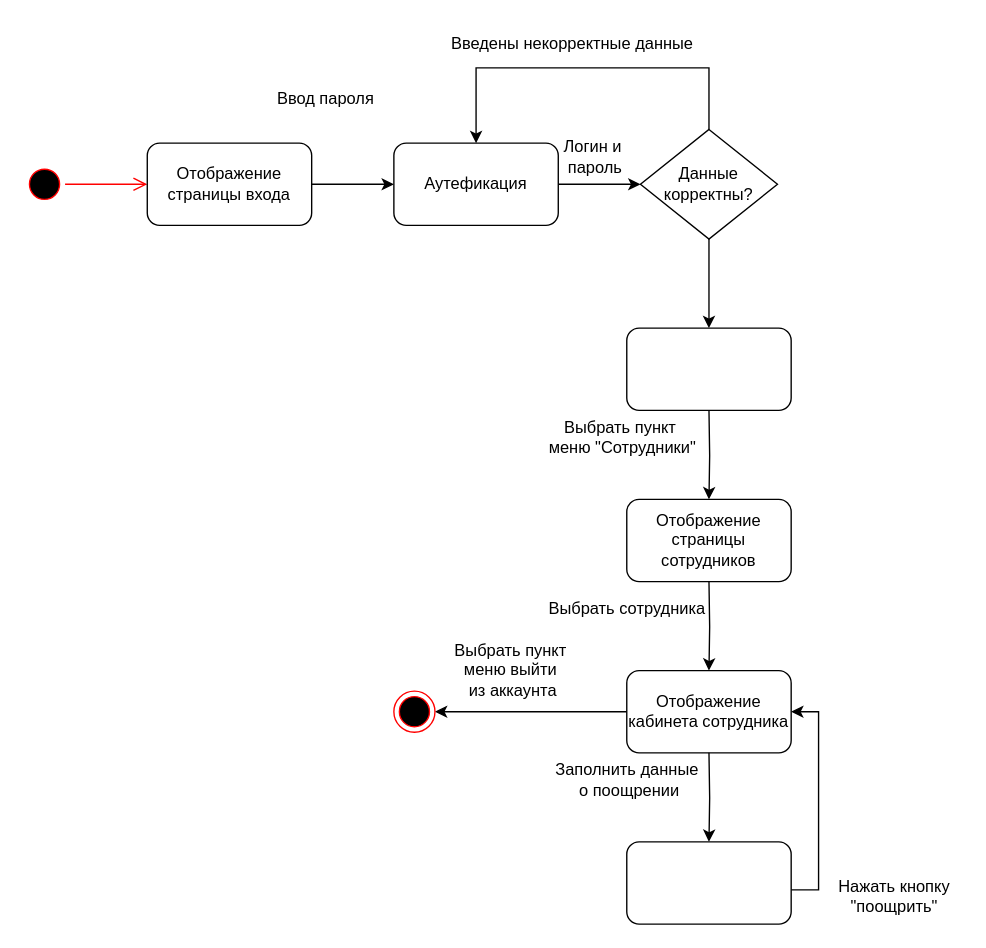
Some shapes in this 986 by 948 pixel diagram are drawn without their labels. The shapes that lost their labels are listed below. From the top down, each one's box as (x1, y1, x2, y2) in pixels, then its label:
(625, 327, 791, 410): Отображение главной страницы
(625, 840, 791, 924): Отображение введенной информации
